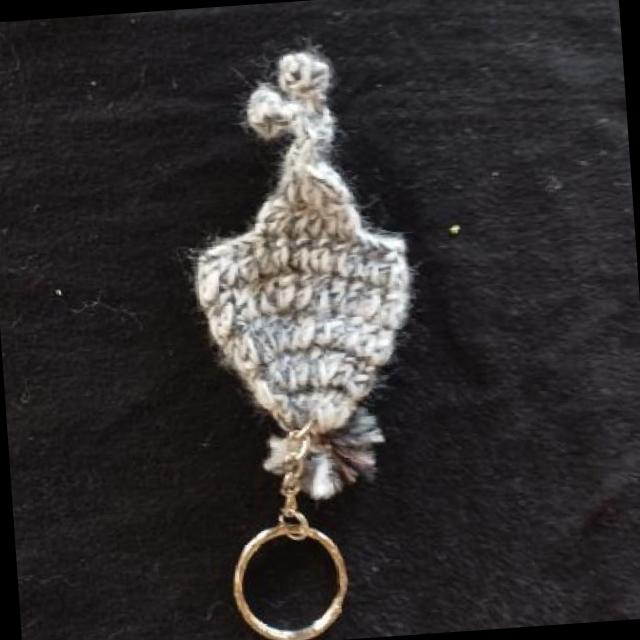Llavero: (173, 39, 430, 511)
